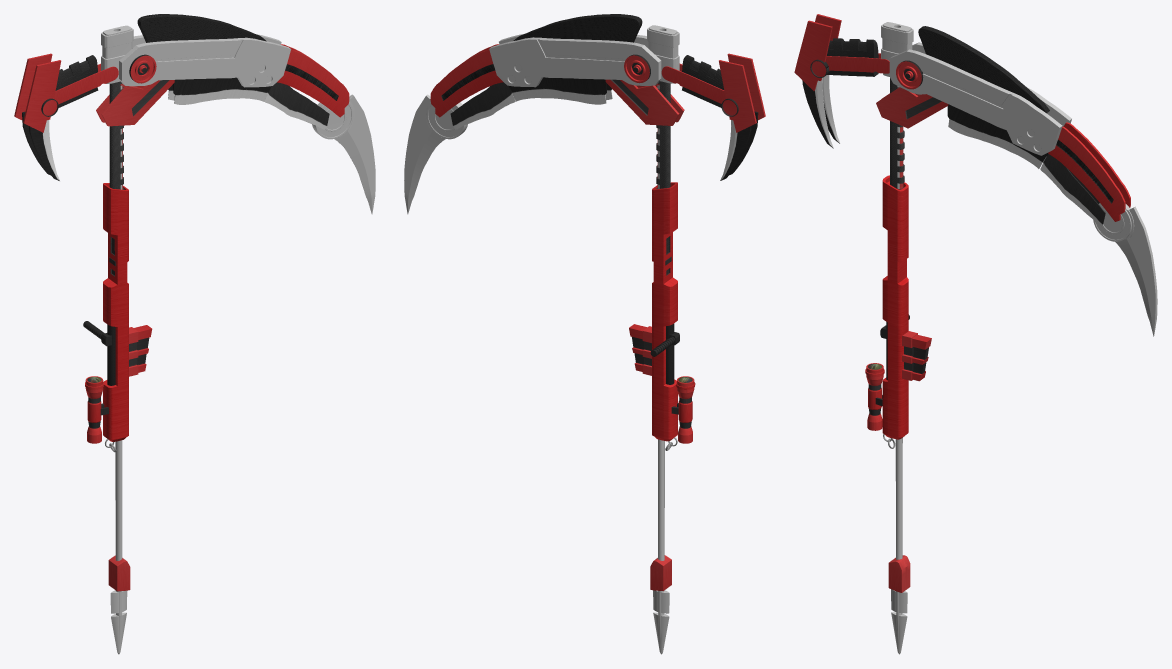
File: RubysScythe.fbx
The picture shows the model from 3 angles, left to right: view 1: azimuth 30°, elevation 25°; view 2: azimuth 150°, elevation 25°; view 3: azimuth 330°, elevation 25°; orthographic projection.
Parts seen in each view (by area): view 1: Right_back_blade_holder3; view 2: Right_back_blade_holder3; view 3: Right_back_blade_holder3.
Boxes of the visible parts, bbox=[...] form: Right_back_blade_holder3: bbox=[14, 14, 375, 654]; Right_back_blade_holder3: bbox=[404, 14, 765, 654]; Right_back_blade_holder3: bbox=[794, 14, 1157, 654].
Size of the model in its own units: 13.94 by 23.64 by 1.95.
